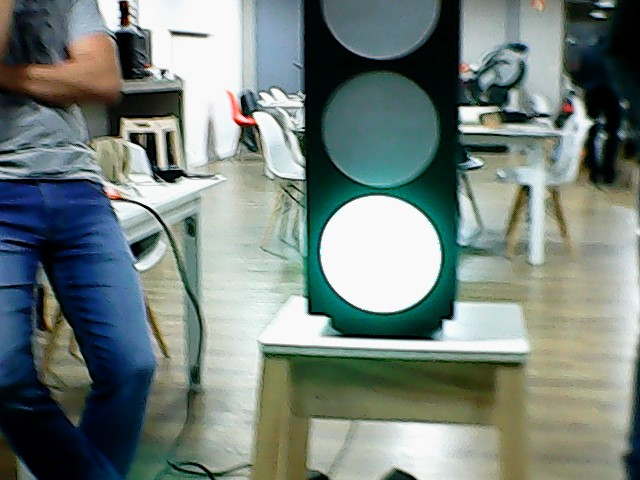verde: (298, 1, 466, 324)
